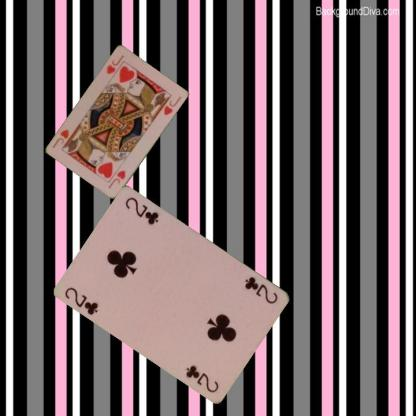2c: (62, 284, 100, 317), (242, 274, 280, 305)
Jh: (104, 52, 126, 81), (106, 168, 127, 190)
